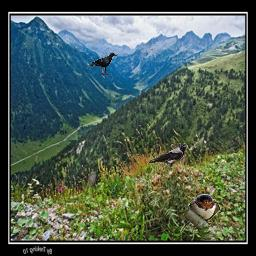Crow: (148, 143, 188, 170), (90, 52, 117, 76)
Swallow: (180, 194, 220, 233)
